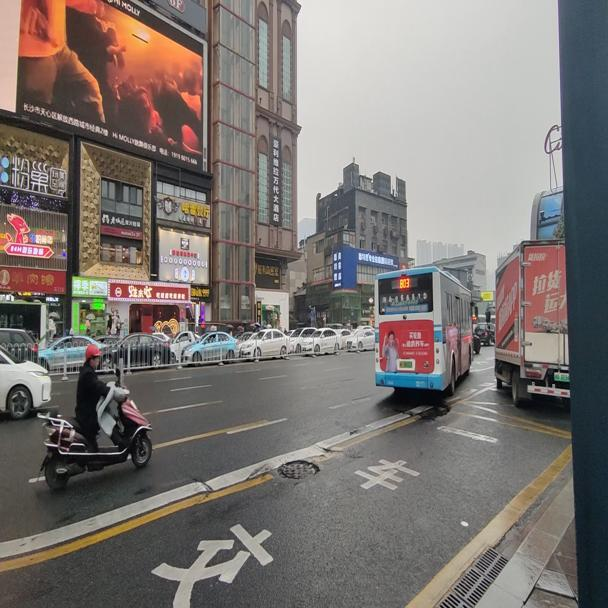bus: (372, 265, 479, 396)
screen: (399, 277, 410, 288)
